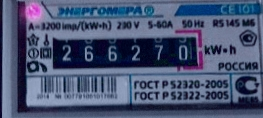0: (176, 42, 187, 62)
2: (59, 42, 73, 63), (129, 43, 141, 63)
6: (82, 43, 94, 64), (106, 43, 118, 62)
7: (152, 42, 164, 61)
screen: (38, 22, 212, 81)
